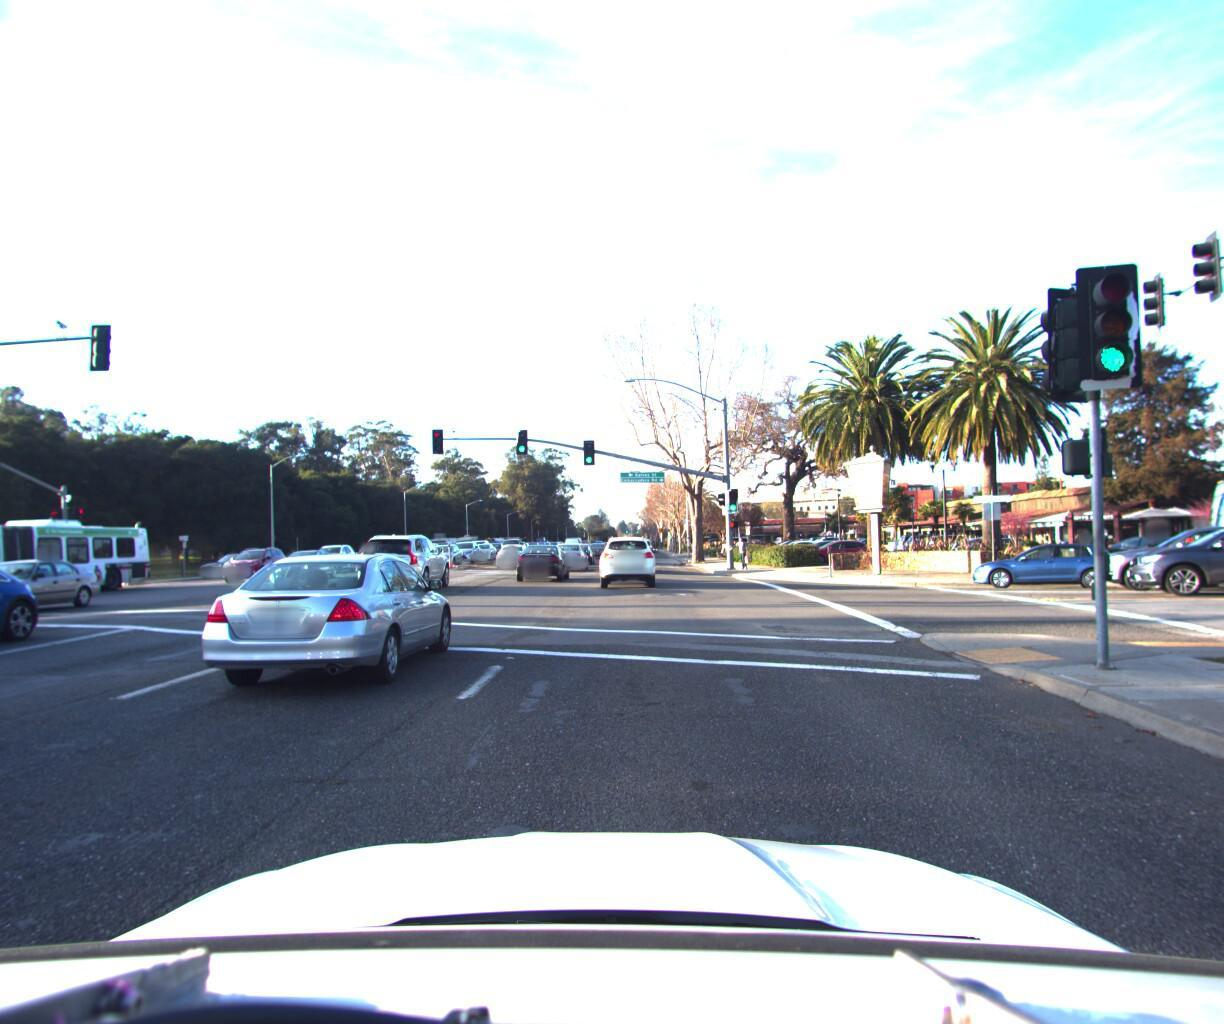bus: (0, 518, 161, 597), (1177, 422, 1224, 593), (0, 501, 20, 625)
car: (193, 541, 460, 705), (0, 507, 107, 676), (1088, 511, 1224, 587), (1115, 507, 1224, 593), (963, 532, 1113, 586), (0, 554, 120, 621), (356, 524, 453, 591), (595, 527, 657, 585), (217, 545, 290, 583), (797, 529, 883, 560), (264, 544, 339, 580), (516, 533, 572, 577), (192, 549, 268, 580), (318, 538, 369, 567), (547, 532, 587, 566), (387, 528, 429, 560), (494, 530, 531, 562), (423, 536, 465, 563), (446, 532, 483, 560), (496, 529, 526, 553), (467, 534, 497, 556), (585, 533, 607, 552)
